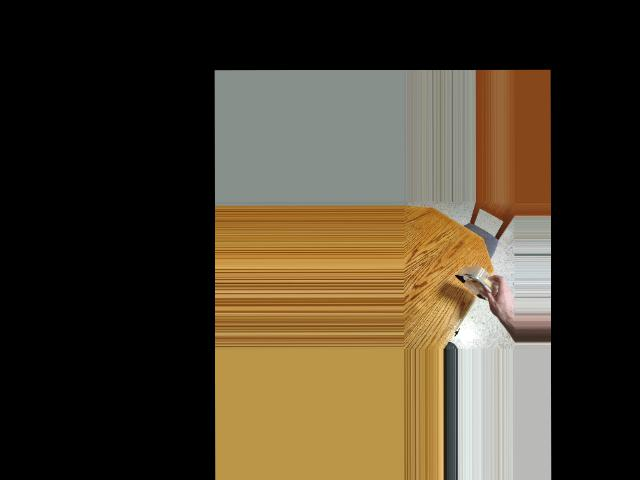cheese: (460, 256, 500, 306)
